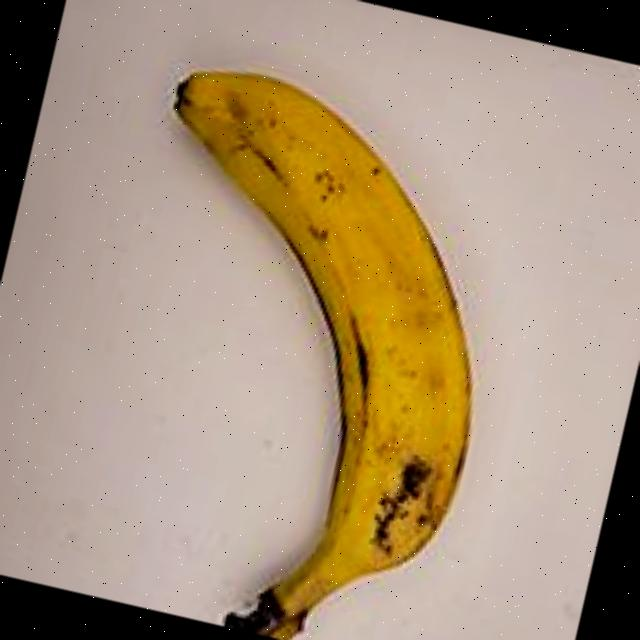Overripe: (31, 13, 572, 640)
